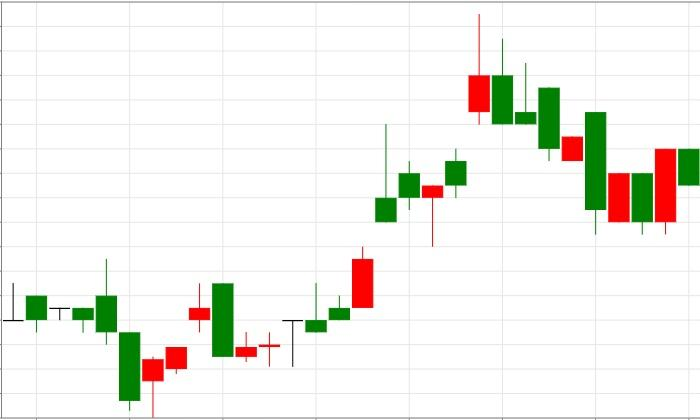shooting_star_fall: (236, 122, 397, 367)
